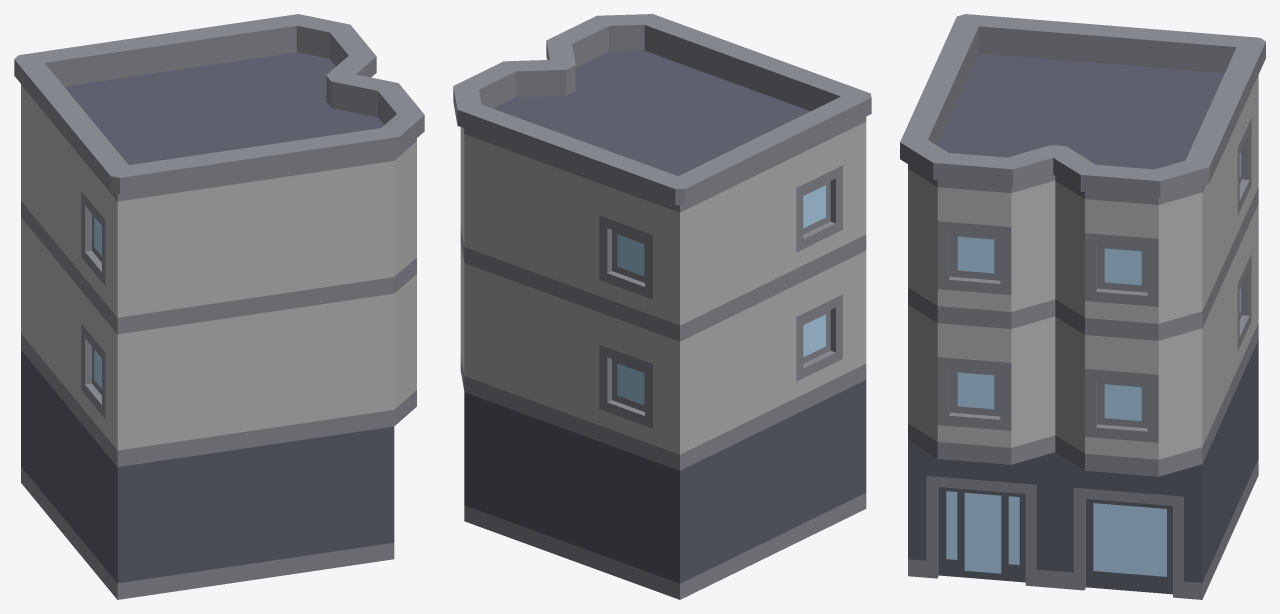
Rendered from variant_36.fbx.
3 views of the same model, side by side, from view 1: azimuth 30°, elevation 25°; view 2: azimuth 150°, elevation 25°; view 3: azimuth 270°, elevation 25° (orthographic). The views are drawn at different scales.
Visible parts, largest first — view 1: small_buildingA; view 2: small_buildingA; view 3: small_buildingA.
Part boxes in pixels (x1,y1,x2,y2): small_buildingA: [14, 14, 424, 599]; small_buildingA: [453, 14, 871, 599]; small_buildingA: [900, 14, 1265, 599].
Bounding box in the file's own units: 106 × 128 × 97.66.
